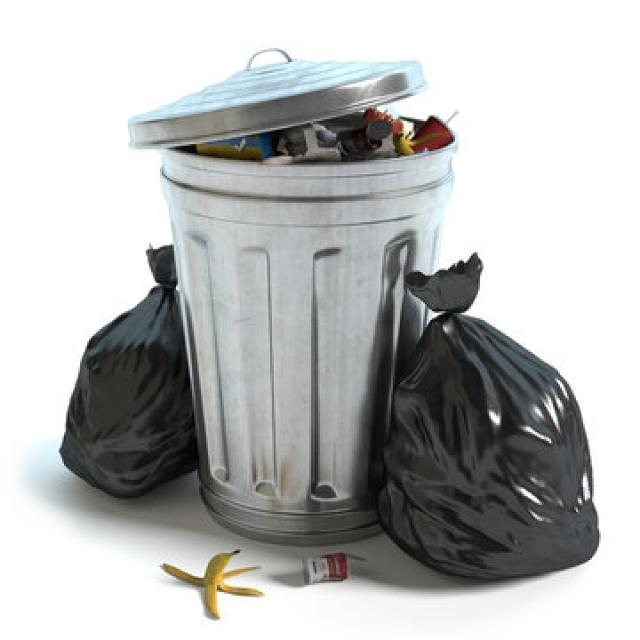metal: (187, 59, 414, 512)
trash: (404, 263, 592, 571), (71, 245, 169, 491)
